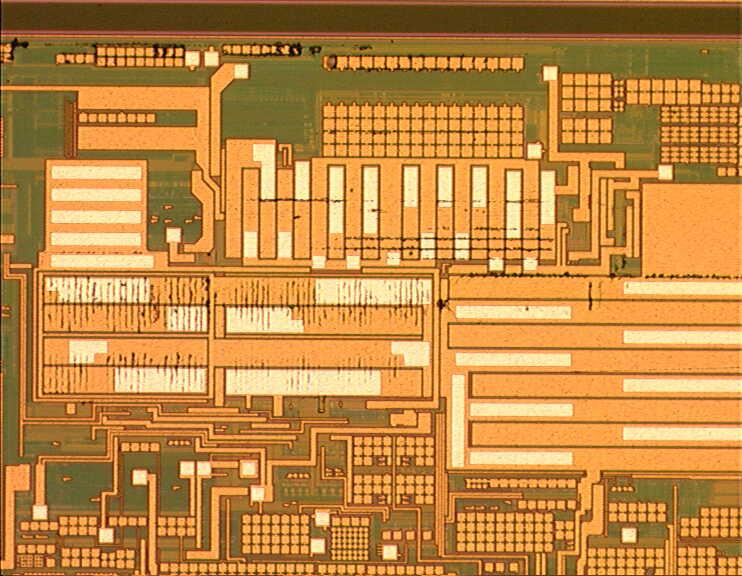SCRATCH: (37, 190, 742, 398)
